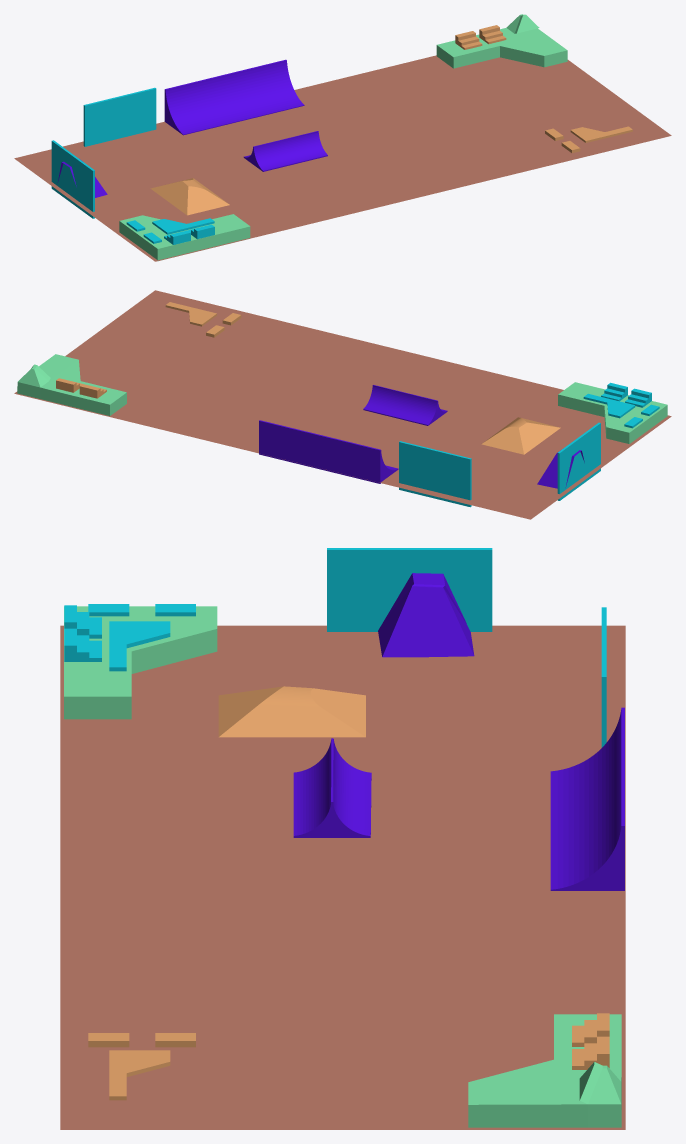
Rendered from skateboard arena2.fbx.
The picture shows the model from 3 angles, top to bottom: view 1: azimuth 30°, elevation 25°; view 2: azimuth 150°, elevation 25°; view 3: azimuth 270°, elevation 25°; orthographic projection. The views are drawn at different scales.
Visible parts, largest first — view 1: Plane; view 2: Plane; view 3: Plane.
Boxes of the visible parts, x1,y1,x2,y2 form: Plane: (14, 14, 671, 261); Plane: (14, 290, 671, 519); Plane: (60, 548, 625, 1129).
Size of the model in its own units: 3774 by 334 by 1787.
